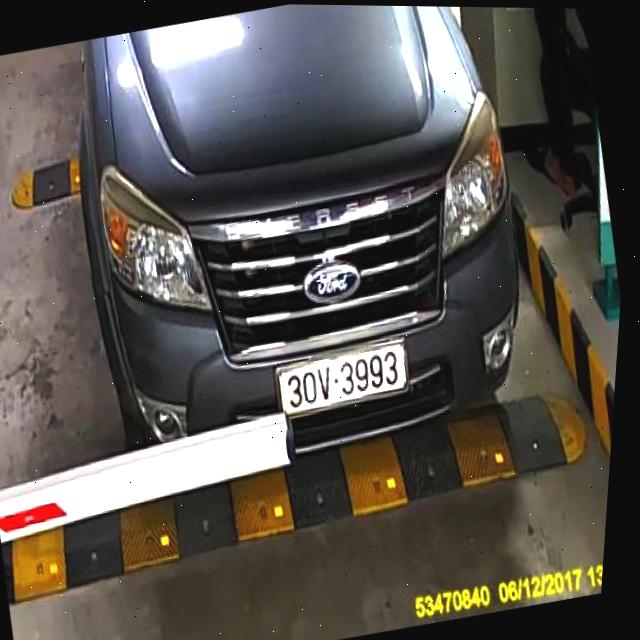car: (25, 1, 573, 497)
plate: (271, 341, 415, 419)
